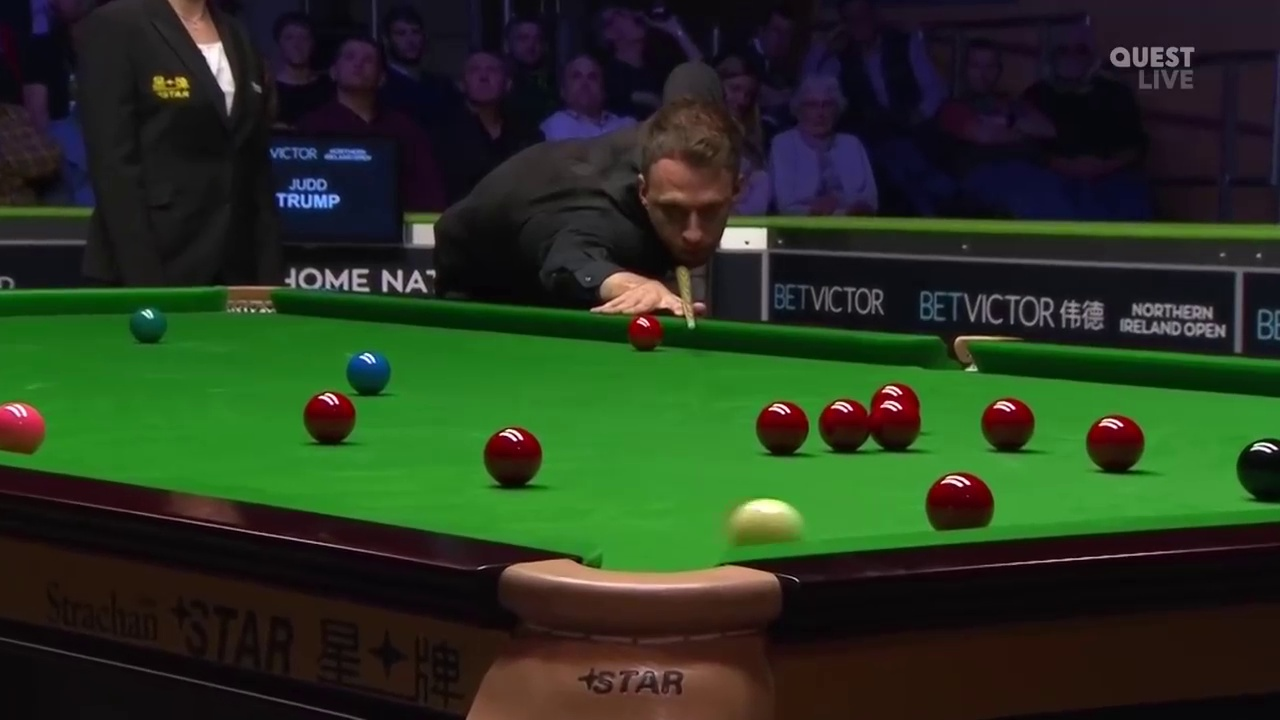ball: (479, 426, 543, 486), (1085, 413, 1144, 470), (979, 398, 1035, 449), (302, 391, 357, 442), (756, 401, 807, 450), (870, 402, 918, 447), (346, 350, 393, 393), (127, 307, 167, 341), (628, 318, 660, 348)
